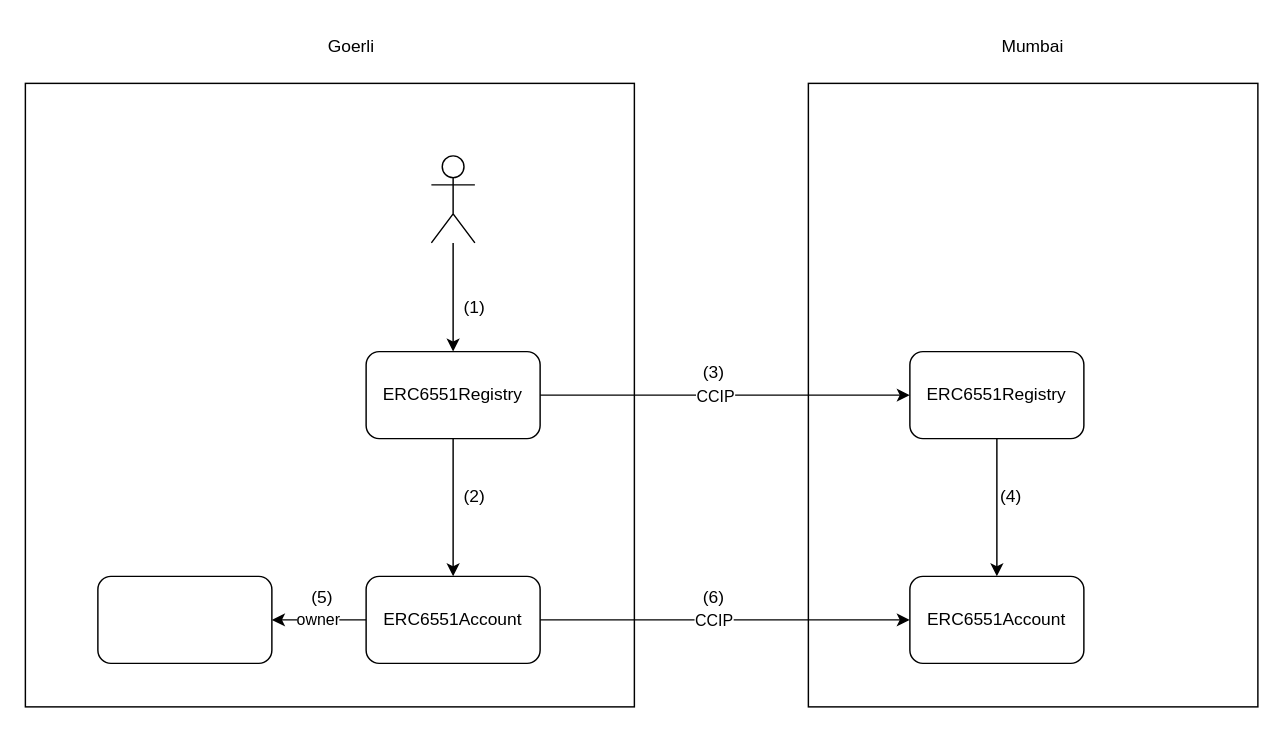
This 1283x732 diagram has some shape labels left out. The centre of each missing label's shape, as x and y in pixels:
Actor: (x=452, y=198)
NFT: (x=184, y=619)
